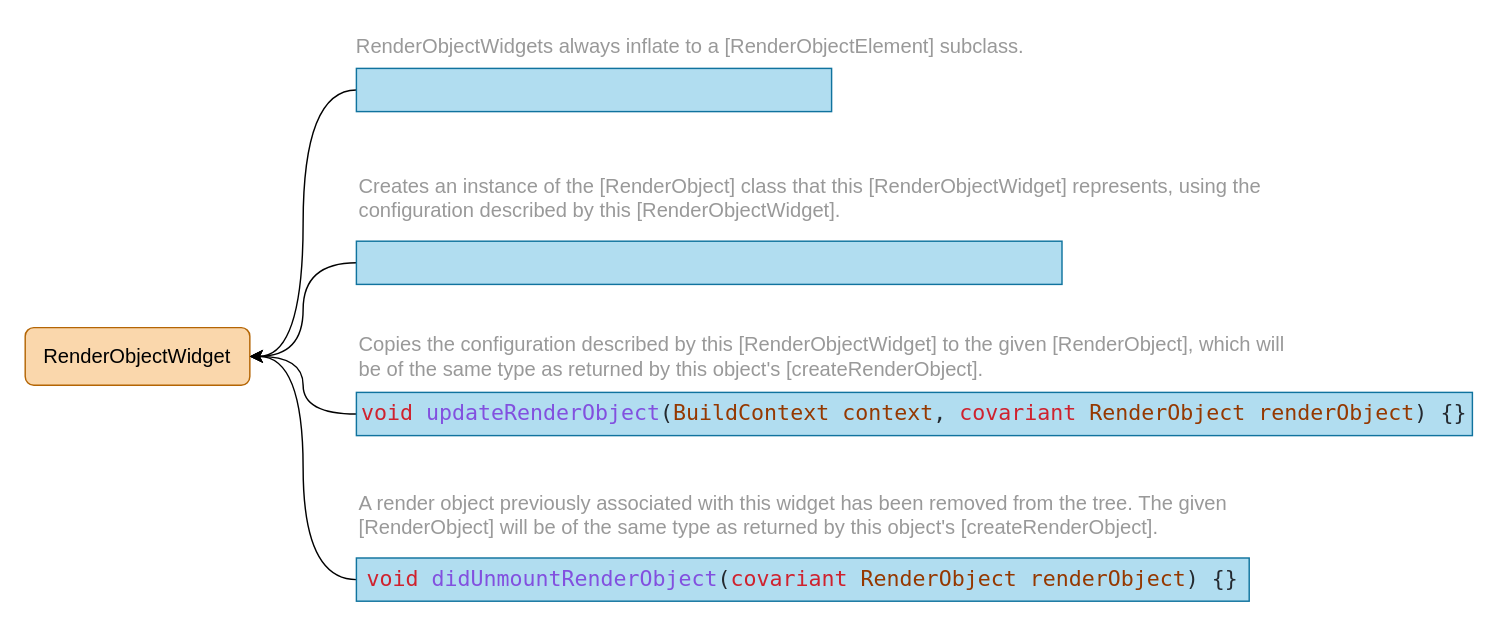
Image size: 1498x626. Some labels were removed from this diagram. Each missing label, with the centre of its shape:
"RenderObject createRenderObject ( BuildContext context );" belongs at pixel 708 262.
"RenderObjectElement createElement ()" belongs at pixel 593 89.
